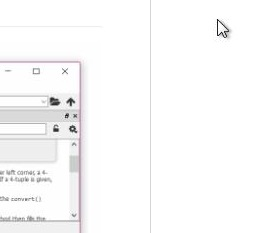cursor: (215, 17, 231, 40)
